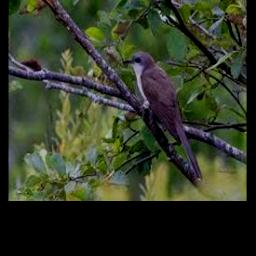Cuckoo: (124, 52, 203, 180)
